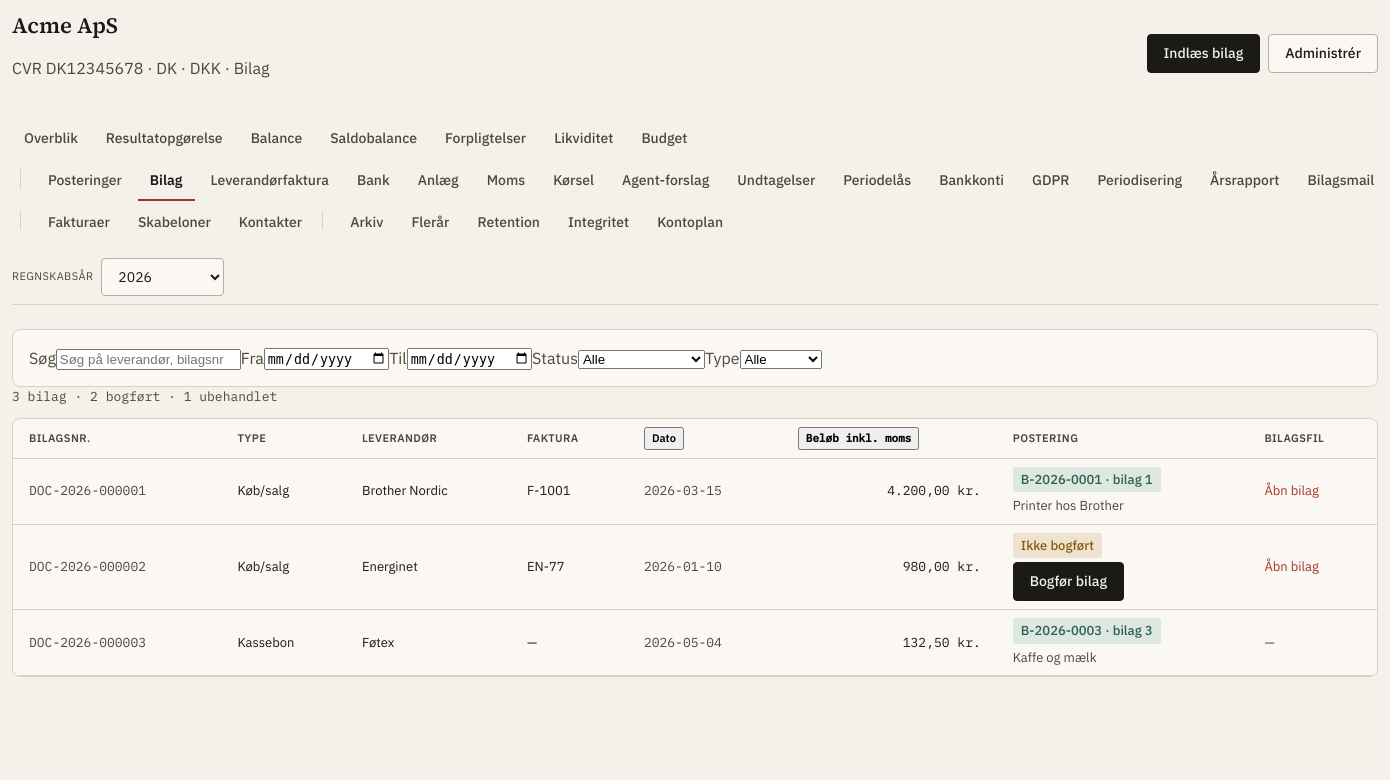
DocumentsView — Bilag › filters by date range (#433)
This screenshot has width=1390, height=780.
Expected: the text "Brother Nordic" is shown, [346, 458, 511, 524]
Step 1. Type "2026-02-01" into the date field labelled "Fra" → [326, 359], box [264, 348, 389, 370]
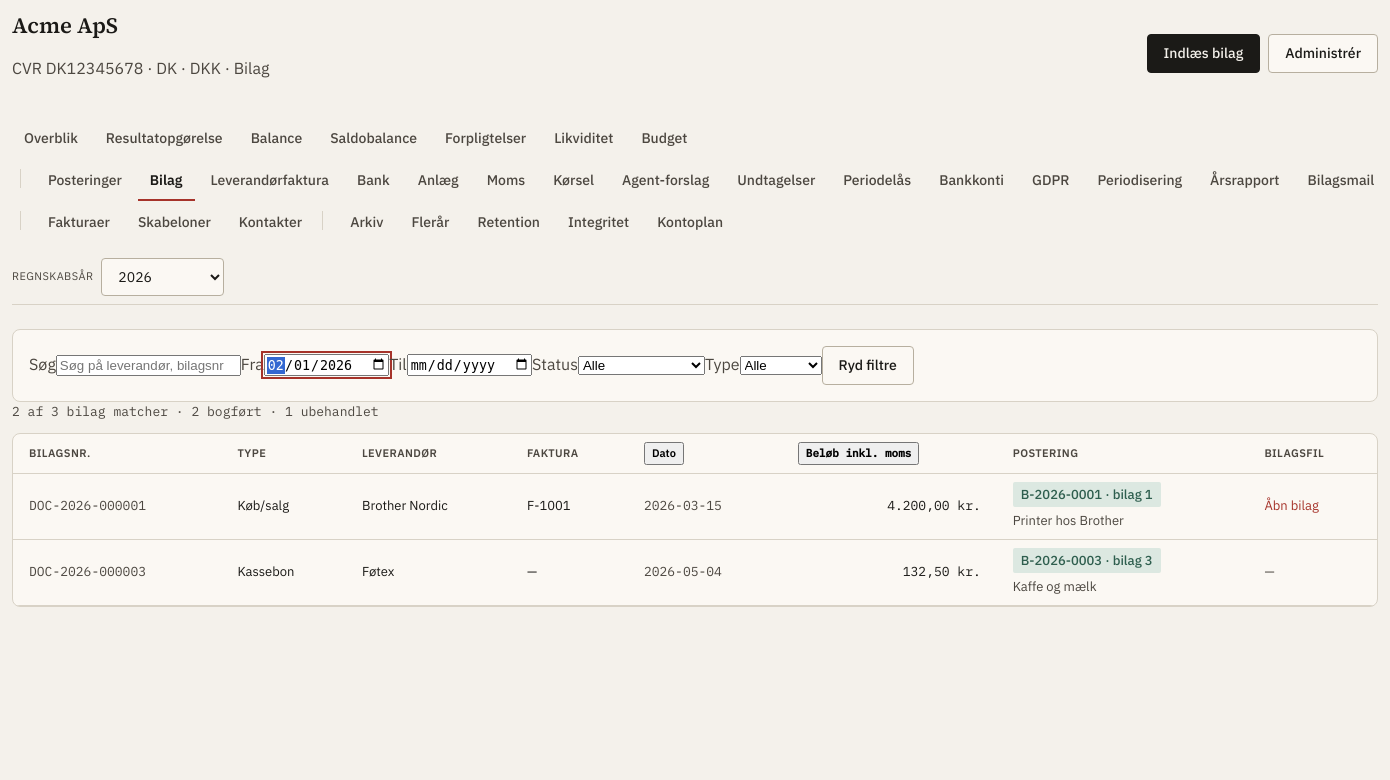
Expected: the text "Brother Nordic" is shown, [346, 473, 511, 539]
Result: the text "Energinet" is gone
